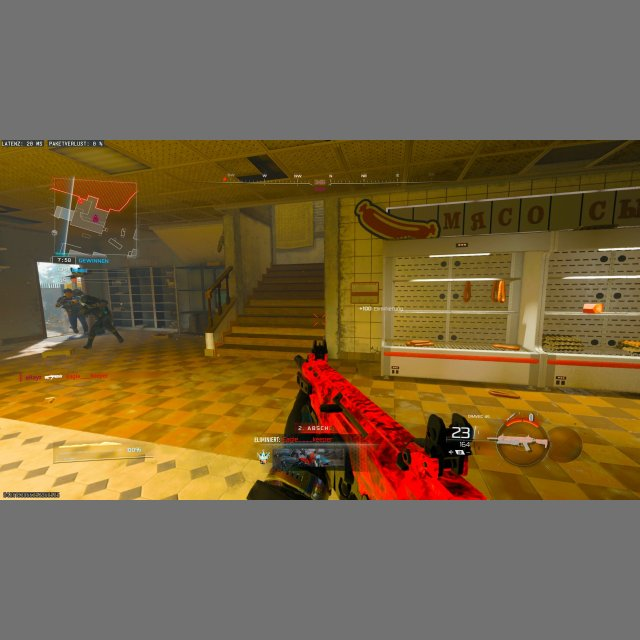head: (63, 288, 72, 297)
player: (76, 289, 125, 350), (56, 288, 89, 335)
